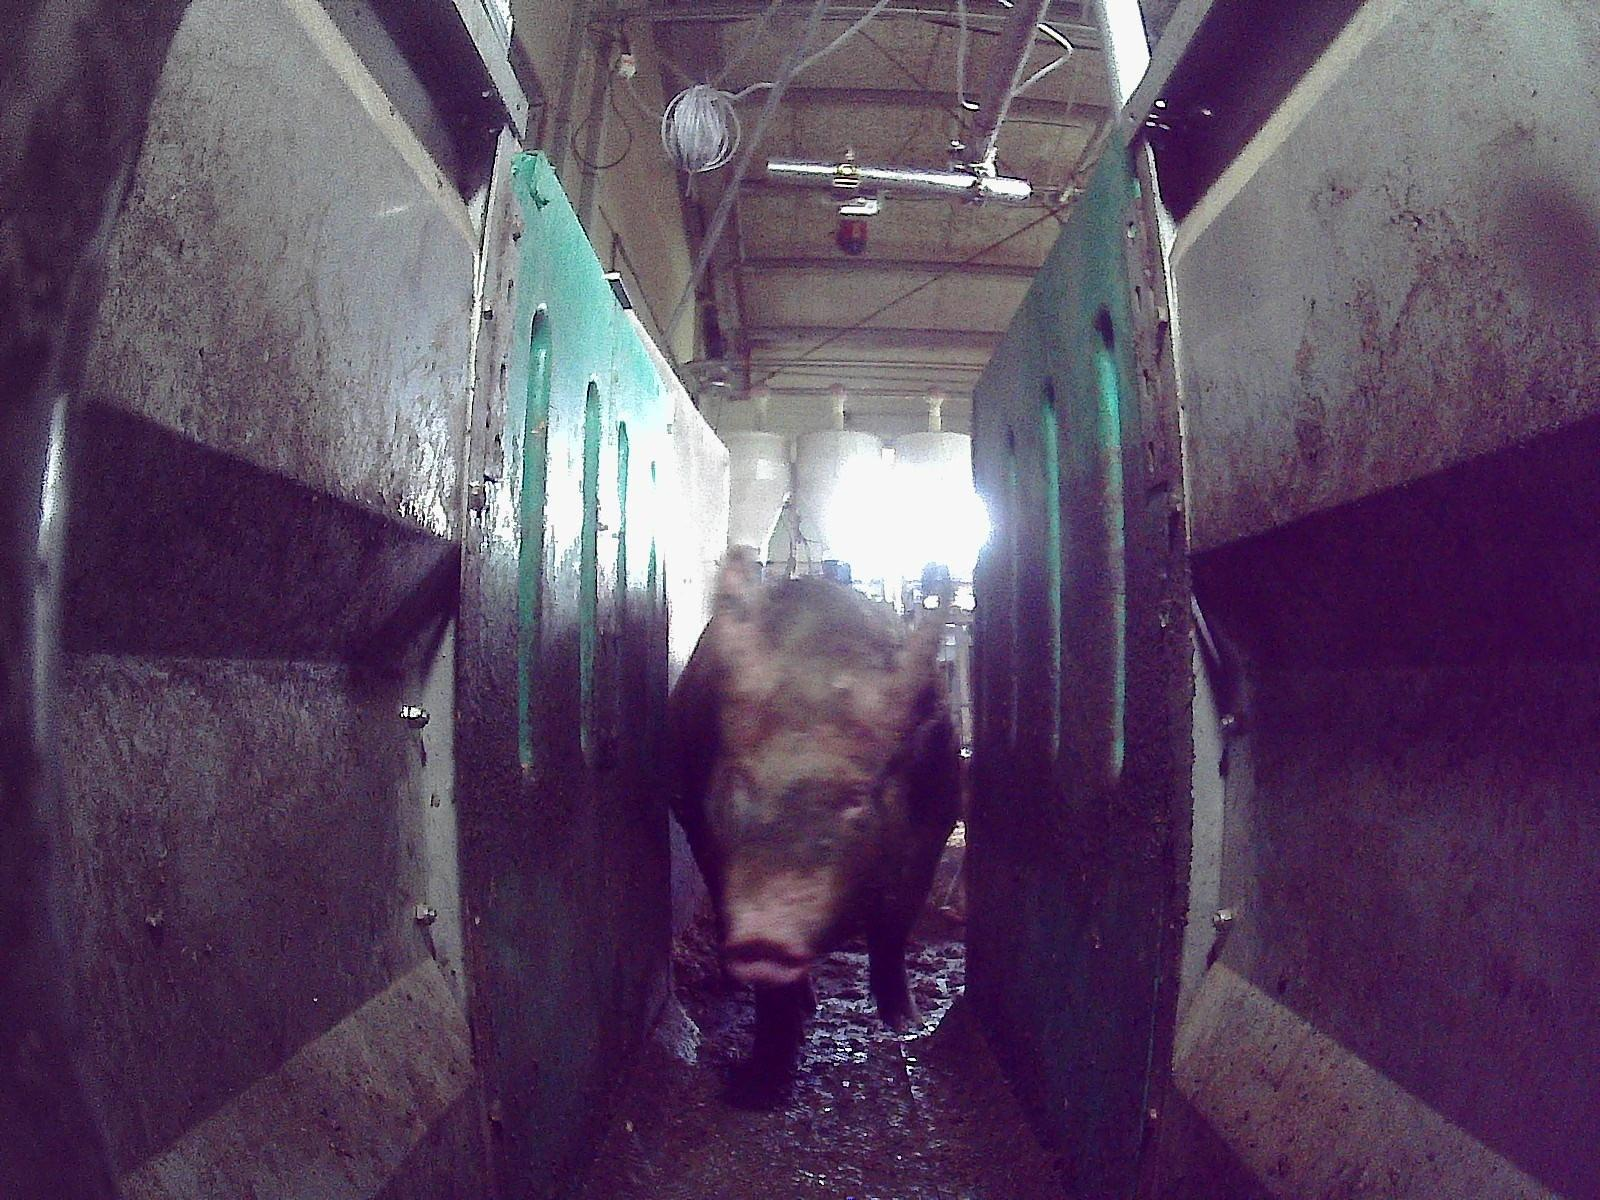Face: (711, 678, 892, 981)
